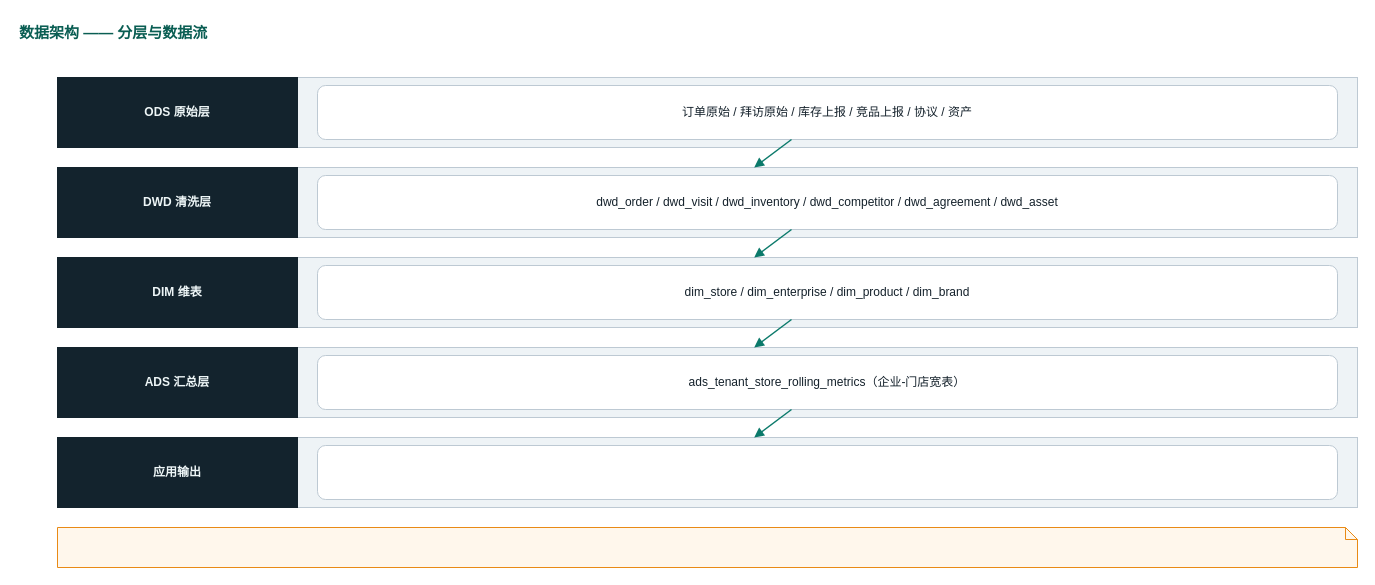
The diagram is 1375 pixels wide and 585 high, and some of its shapes have lost their labels. Each missing label, with the centre of its shape:
"ads_store_score（打分落库） / 标签库 / 画像 / 推送名单" belongs at (x=827, y=472).
"关键：所有表以 tenant_enterprise_id + store_id 为关联键；ads 宽表是打分/标签/画像的统一输入，保证口径一致。" belongs at (x=707, y=547).
